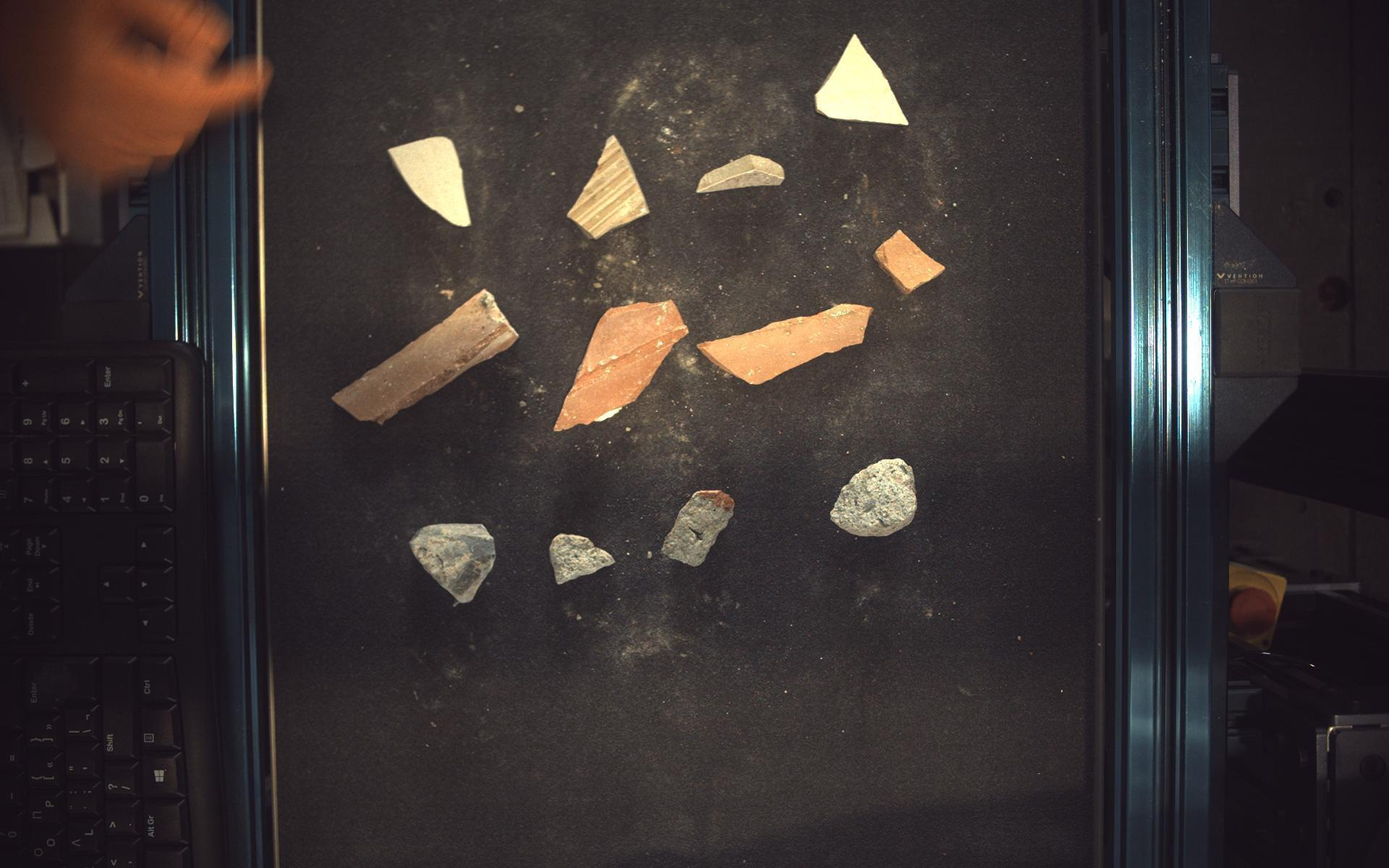brick: (332, 289, 518, 424), (555, 300, 689, 432), (699, 304, 875, 385), (876, 229, 947, 294)
concrete: (410, 524, 496, 605), (832, 459, 918, 537), (662, 490, 734, 567), (550, 534, 616, 585)
tile: (817, 33, 910, 124), (568, 135, 650, 238), (388, 136, 471, 226), (698, 153, 786, 192)
